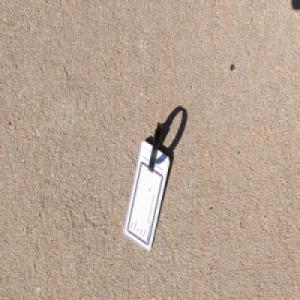LuggageTag: (121, 120, 169, 253)
